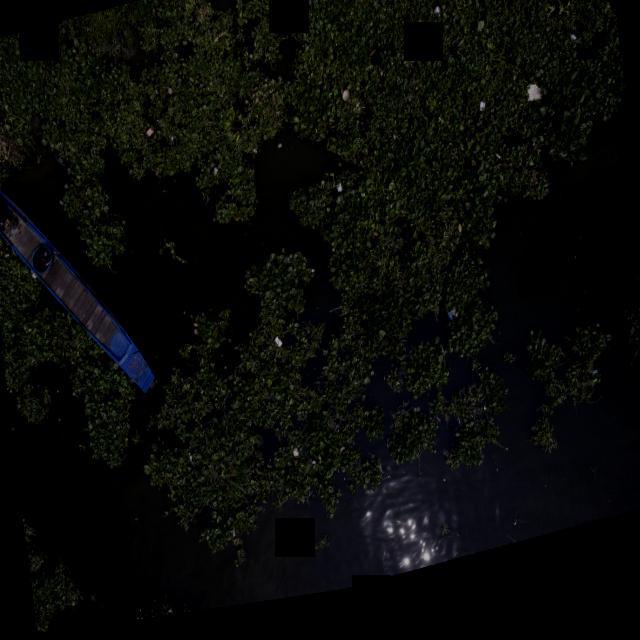plastic: (520, 93, 548, 126), (472, 106, 492, 132), (286, 447, 302, 472), (428, 12, 444, 36), (444, 317, 458, 340), (53, 154, 69, 172), (140, 128, 156, 145), (274, 339, 284, 365), (492, 163, 502, 177), (306, 273, 316, 285), (336, 190, 344, 204), (570, 47, 578, 61), (230, 533, 237, 547), (166, 91, 174, 101), (30, 271, 36, 283), (590, 386, 599, 394), (310, 467, 318, 476), (1, 166, 10, 173), (188, 459, 193, 467), (170, 140, 175, 148)
